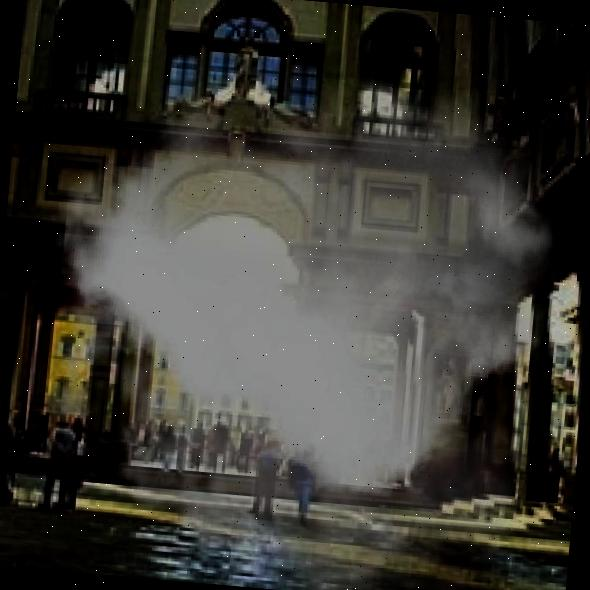smoke: (3, 52, 569, 590)
